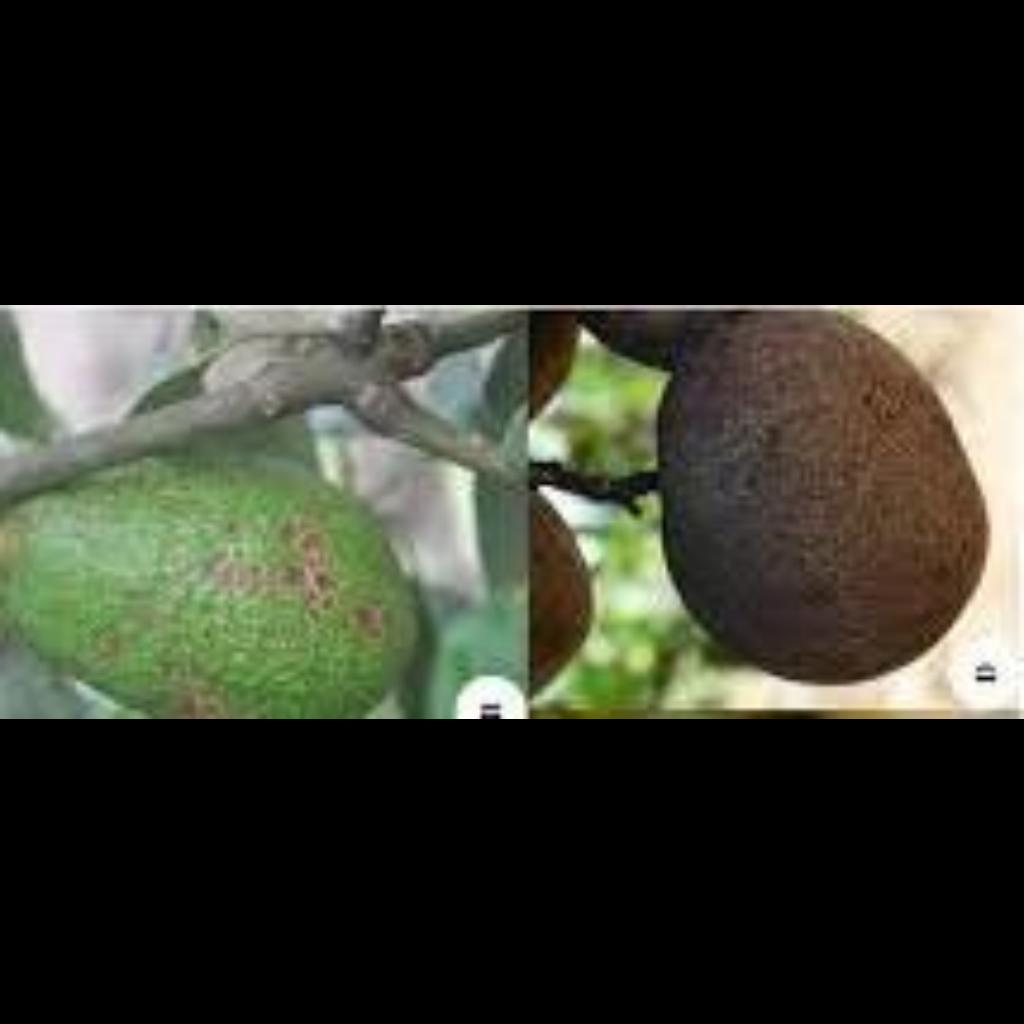antracnosis_fruto: (657, 352, 967, 647)
